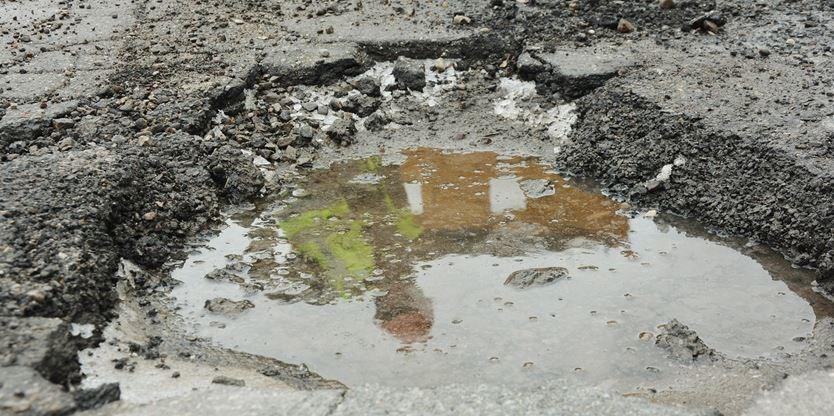Pothole: (116, 31, 813, 410)
